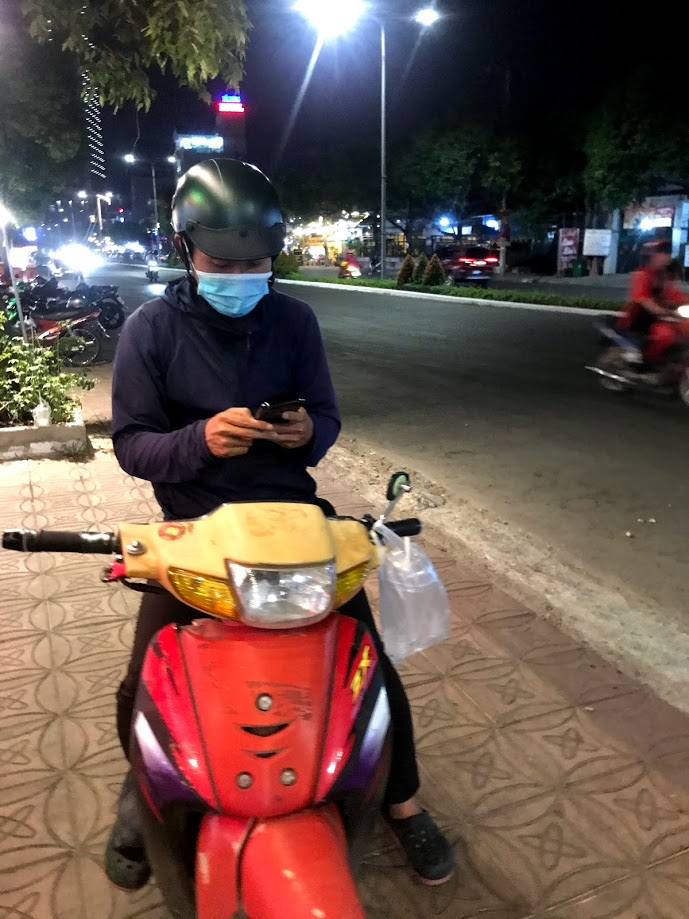dieu khien xe may: (114, 157, 394, 818)
su dung dien thoai: (166, 159, 323, 465)
